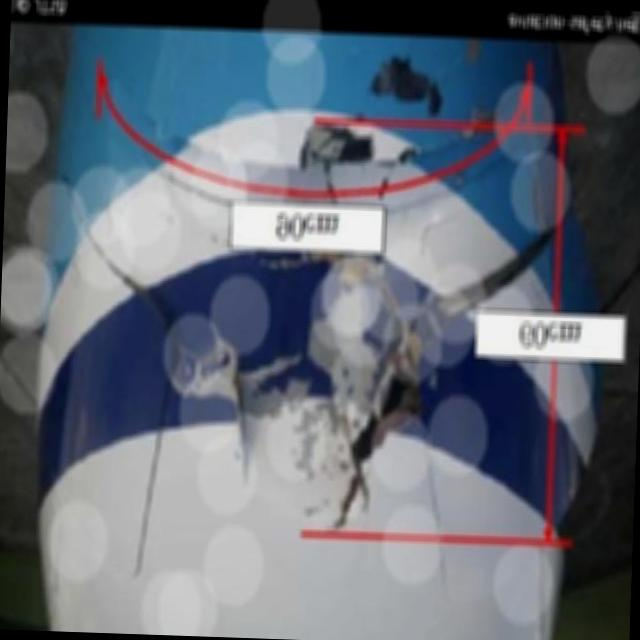crack: (334, 211, 557, 527)
